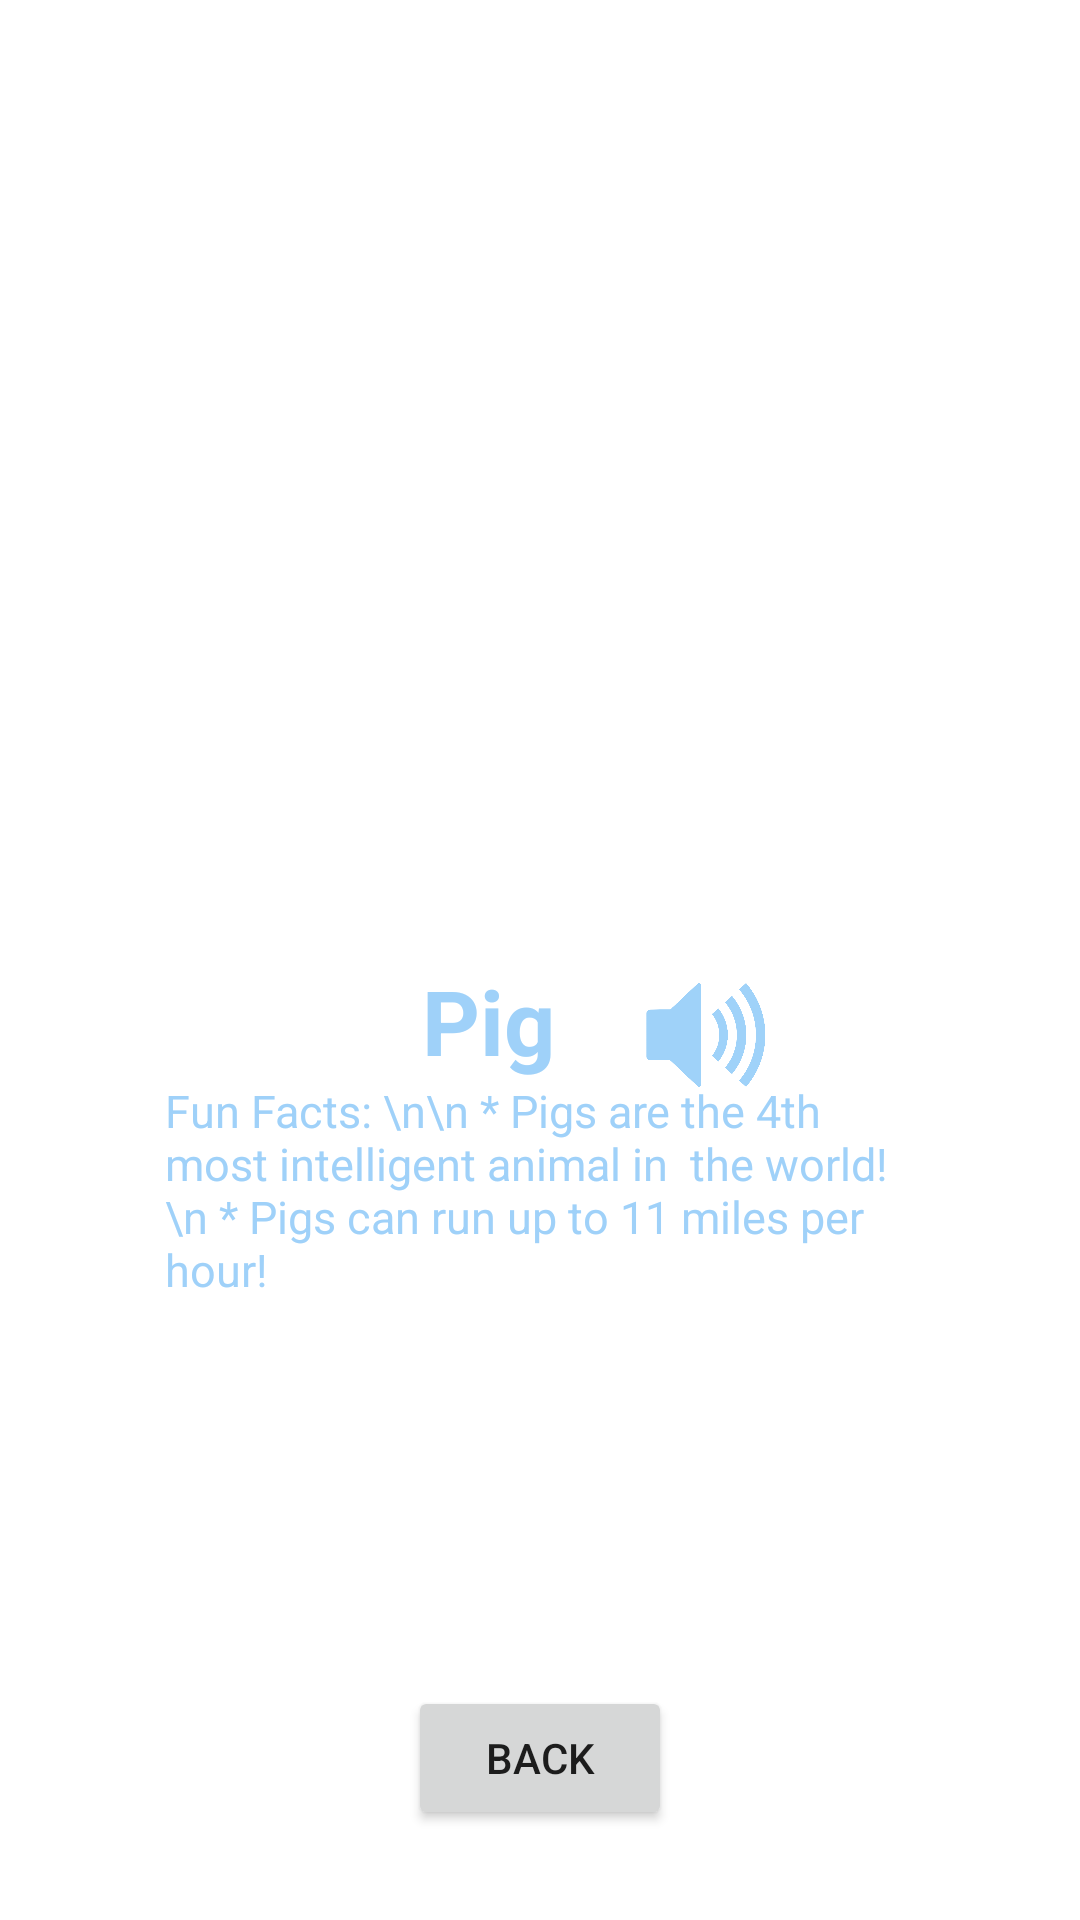

Locate icon controls on the screen. Image size 1080 × 1920, boxes as BBox(x1, y1, x2, y2).
volume: BBox(646, 983, 765, 1087)
